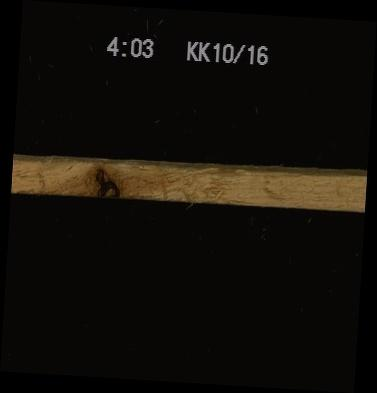wave: (13, 152, 367, 175)
